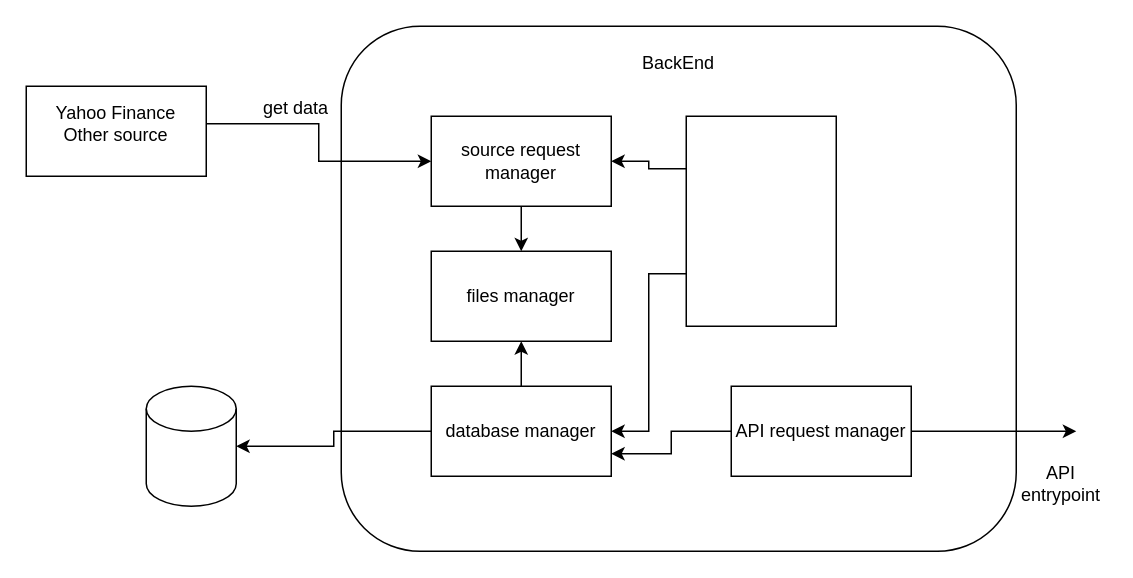
This 1133x578 diagram has some shape labels left out. The box of each missing label's shape, as (x1, y1, x2, y2) in pixels:
config: (685, 115, 836, 326)
database: (145, 385, 236, 506)
